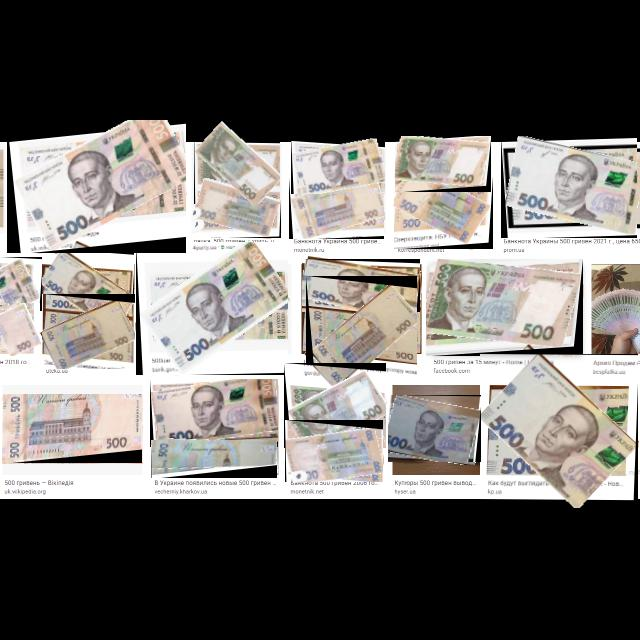500uah: (480, 355, 636, 509), (12, 120, 187, 252), (140, 242, 289, 376), (426, 259, 583, 350), (505, 136, 638, 236), (312, 284, 418, 383), (2, 394, 143, 462), (151, 379, 279, 448), (288, 368, 387, 449), (394, 168, 492, 246), (195, 122, 281, 205), (42, 250, 134, 325), (42, 300, 136, 370), (388, 395, 481, 463), (302, 260, 421, 313), (291, 177, 385, 240), (286, 428, 384, 483), (292, 138, 386, 195), (196, 178, 281, 238), (395, 136, 491, 188), (152, 440, 278, 470), (0, 303, 41, 358), (0, 259, 41, 312)
